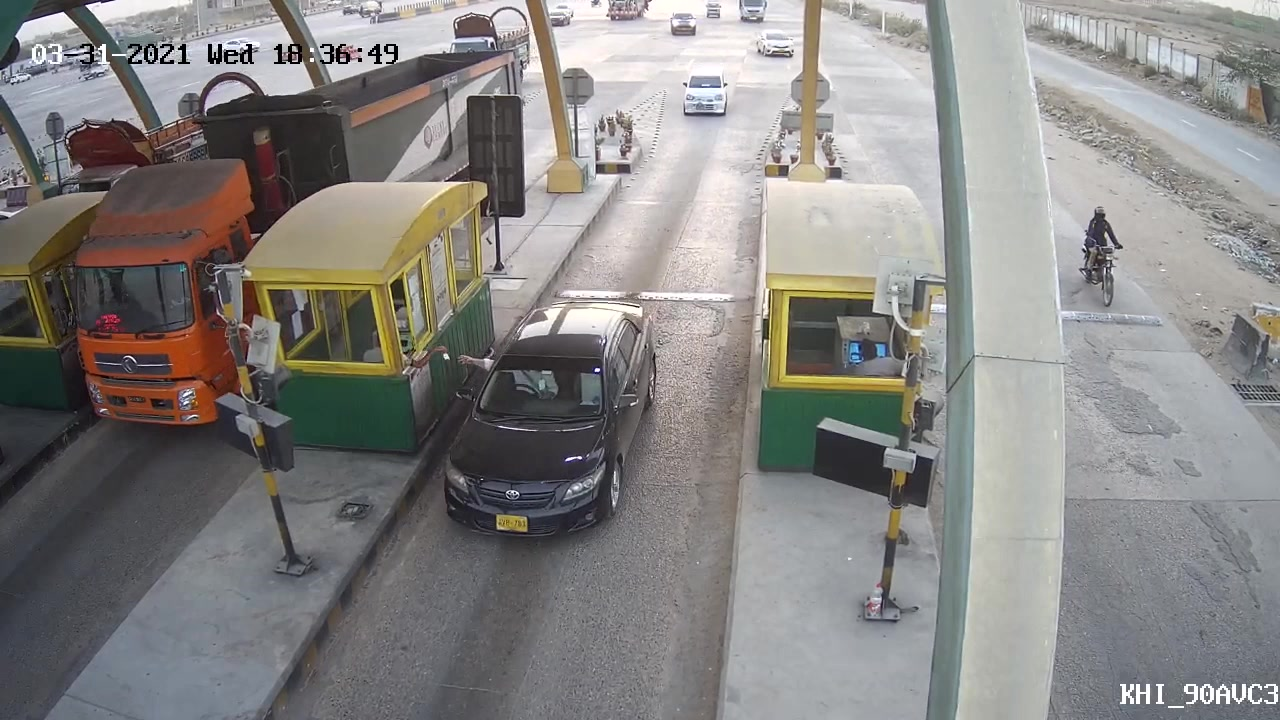F1: (433, 286, 665, 546)
